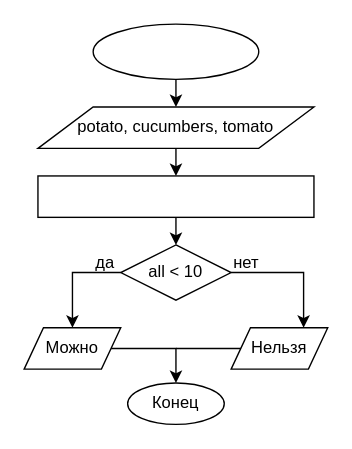
This 352x449 diagram has some shape labels left out. Each missing label, with the centre of its shape:
all = potato+cucumbers+tomato: point (175, 196)
Начало: point (175, 51)
